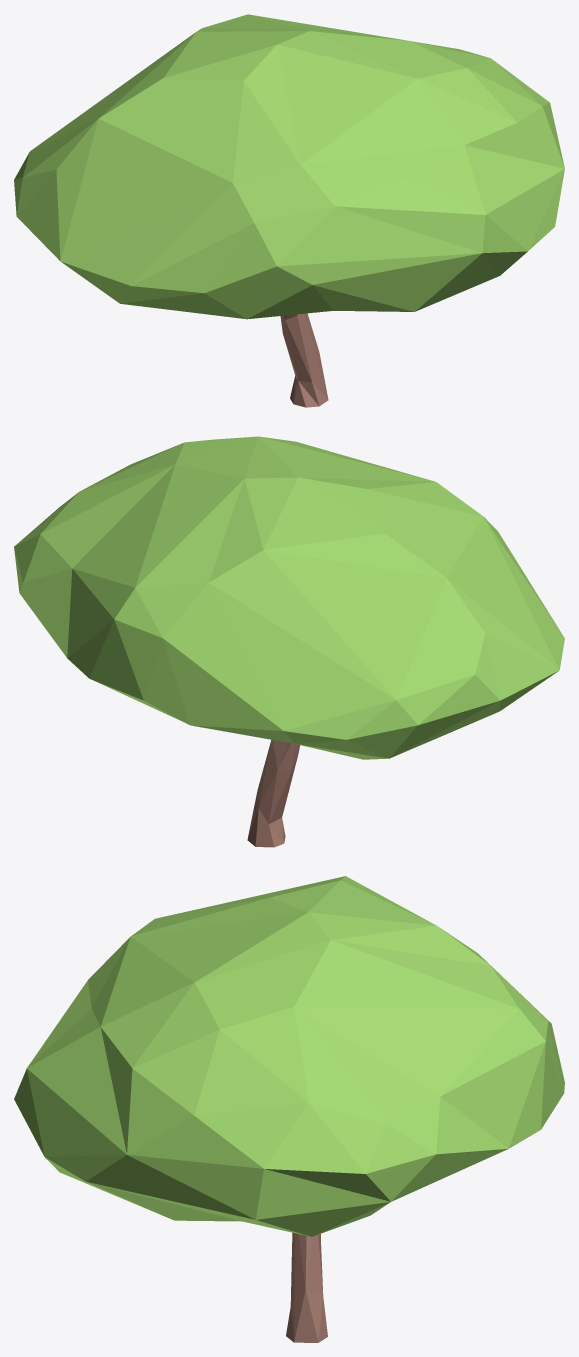
Rendered from tree-spreading.glb.
The picture shows the model from 3 angles, top to bottom: view 1: azimuth 30°, elevation 25°; view 2: azimuth 150°, elevation 25°; view 3: azimuth 270°, elevation 25°; orthographic projection. The views are drawn at different scales.
Parts seen in each view (by area): view 1: leaves, trunk; view 2: leaves, trunk; view 3: leaves, trunk.
Boxes of the visible parts, x1=… form: leaves: x1=14, y1=14, x2=564, y2=319; trunk: x1=280, y1=313, x2=328, y2=407; leaves: x1=14, y1=436, x2=564, y2=759; trunk: x1=247, y1=739, x2=300, y2=847; leaves: x1=14, y1=876, x2=564, y2=1236; trunk: x1=286, y1=1232, x2=327, y2=1342.
Size of the model in its own units: 13.62 by 9.58 by 11.77.
